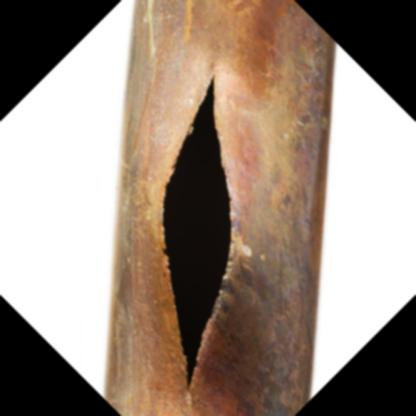burst: (152, 72, 252, 399)
